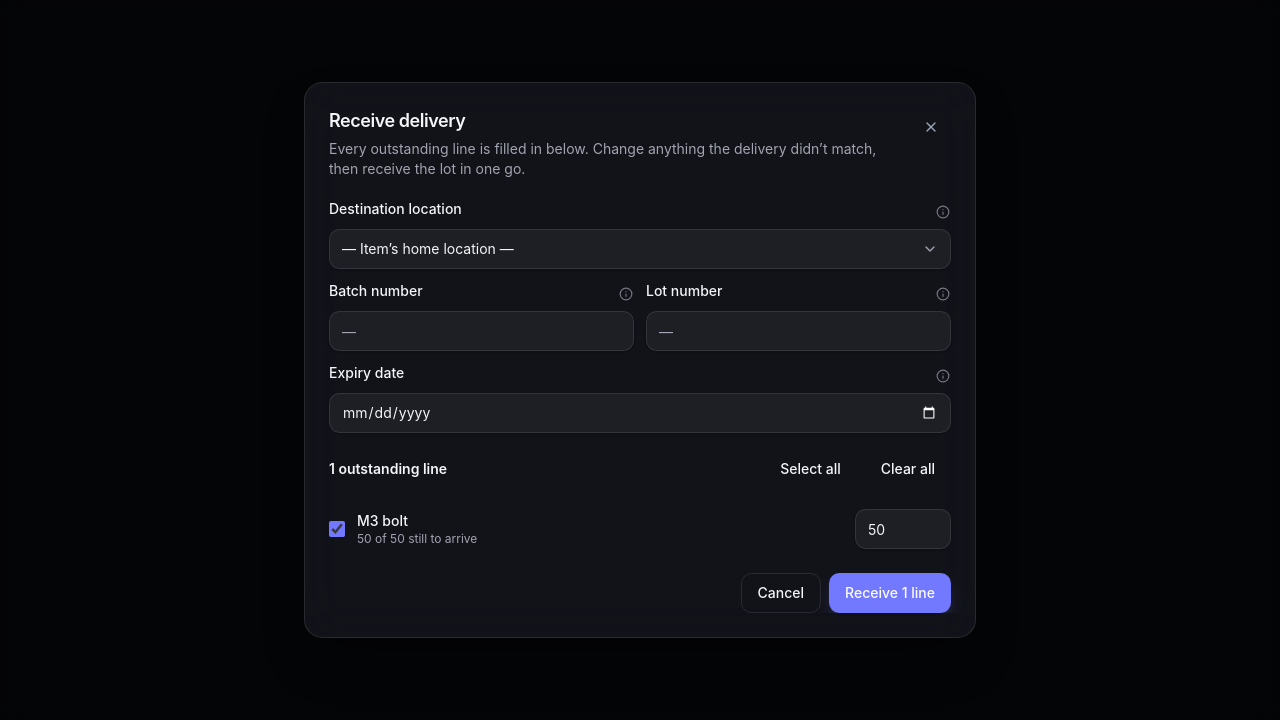
Scenario: ReceiveDeliveryDialog — the whole delivery arrived › refuses a quantity larger than the line has outstanding, and says which line
The image size is (1280, 720).
Step 1. Replace the text in the field with test id "po-delivery-qty" with "60" → (903, 529), box top-left (855, 509), bottom-right (951, 549)
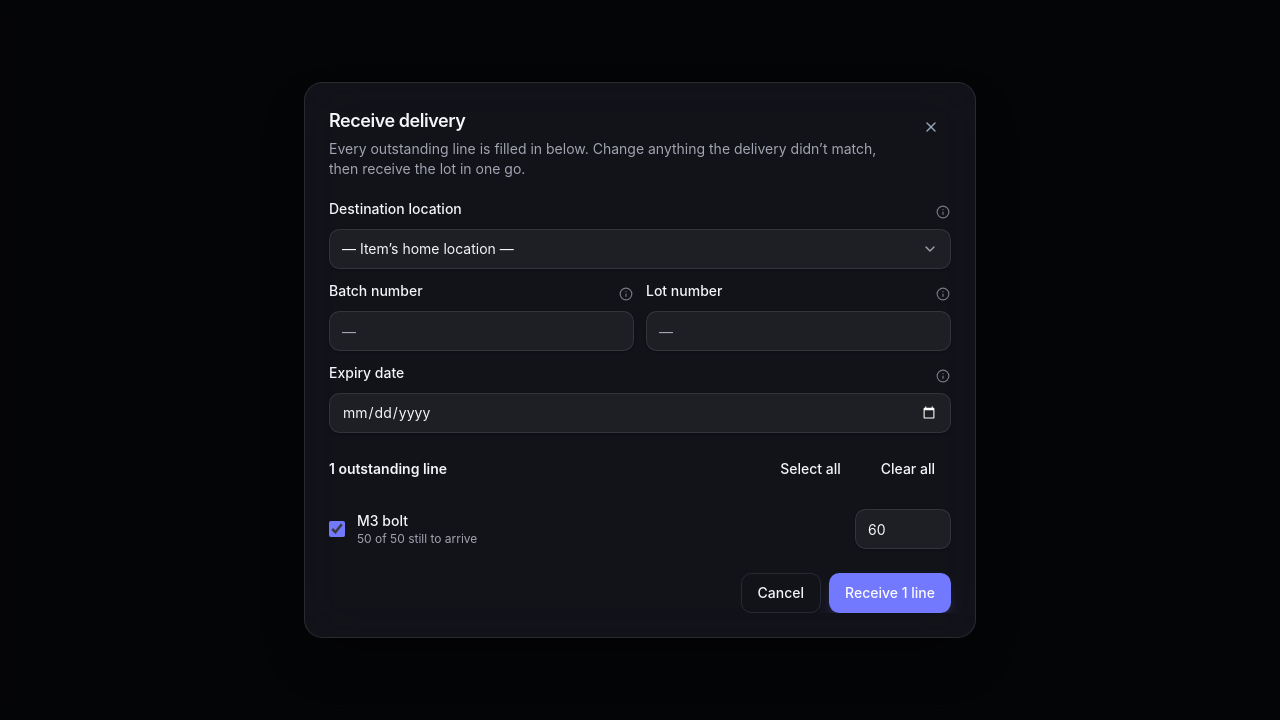
Step 2. Click the button with test id "po-delivery-save" → (890, 593), box top-left (829, 573), bottom-right (951, 613)
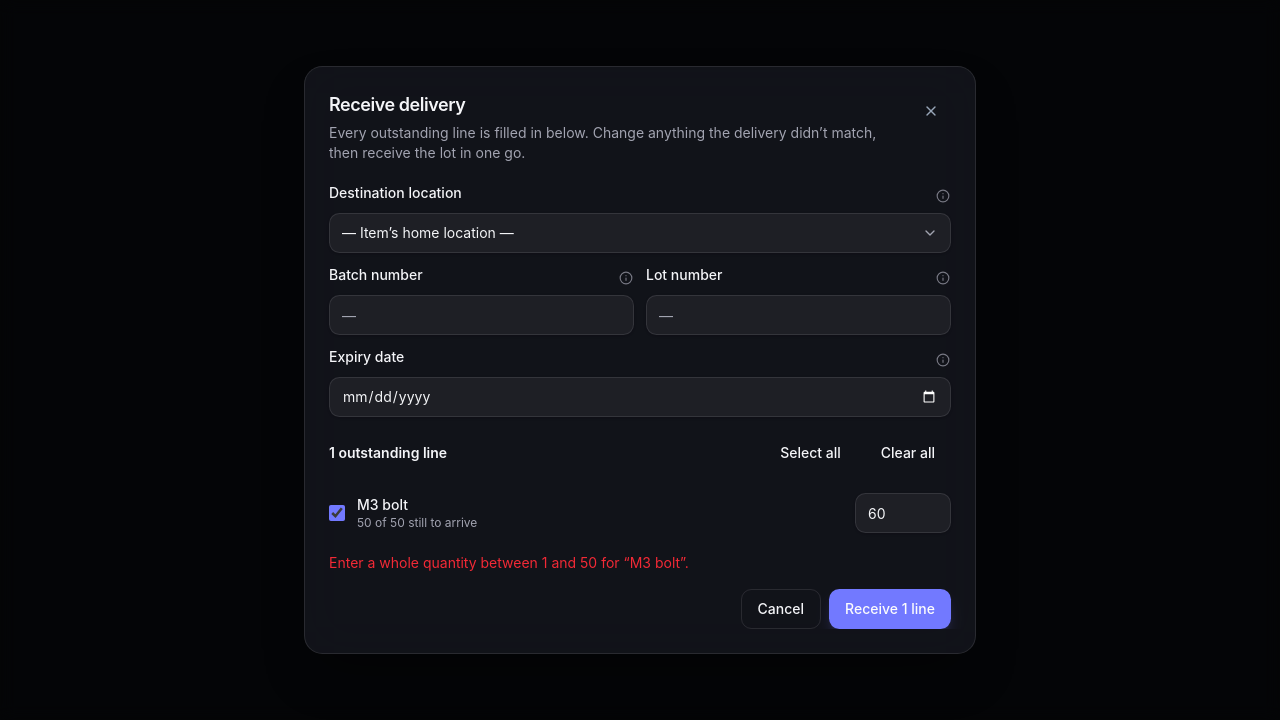
Expected: the message with test id "po-delivery-error" shows "M3 bolt", top-left (329, 554), bottom-right (689, 571)
